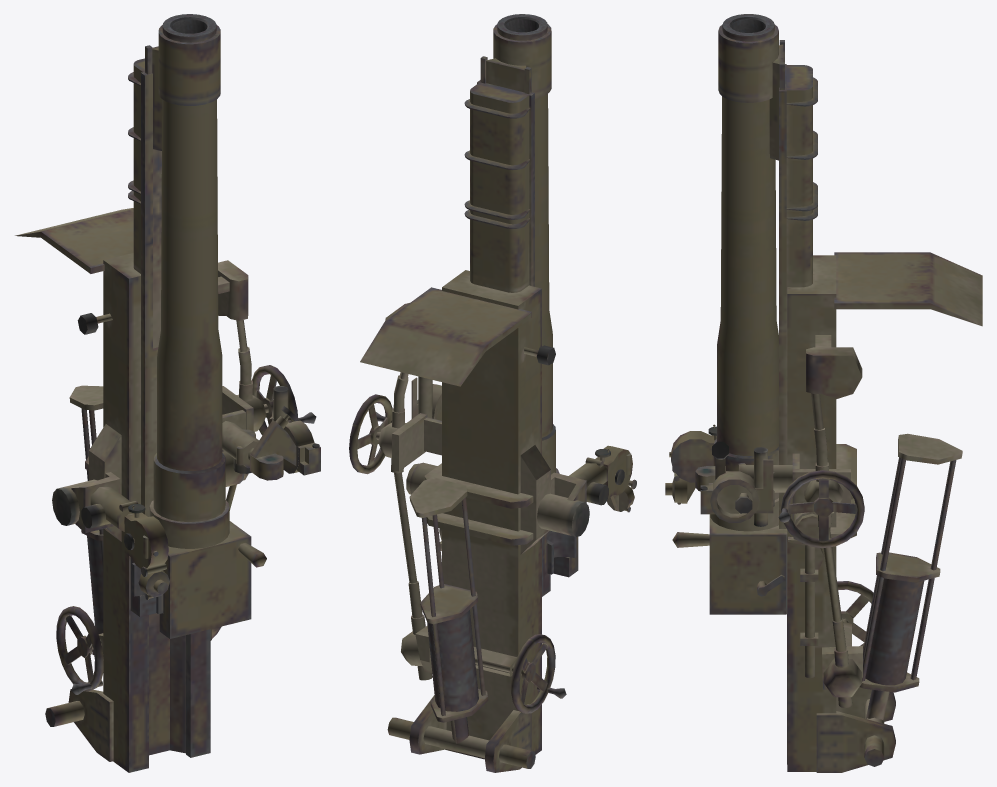
File: Gun_01.glb
3 views of the same model, side by side, from view 1: azimuth 30°, elevation 25°; view 2: azimuth 150°, elevation 25°; view 3: azimuth 270°, elevation 25° (orthographic). The views are drawn at different scales.
Visible parts, largest first — view 1: set_0_group_0; view 2: set_0_group_0; view 3: set_0_group_0.
Boxes of the visible parts, x1,y1,x2,y2 form: set_0_group_0: (15, 14, 320, 772); set_0_group_0: (349, 14, 636, 772); set_0_group_0: (665, 14, 982, 772).
Size of the model in its own units: 0.8064 by 2.41 by 0.952.
Materials: 1 (1 with a texture image).
